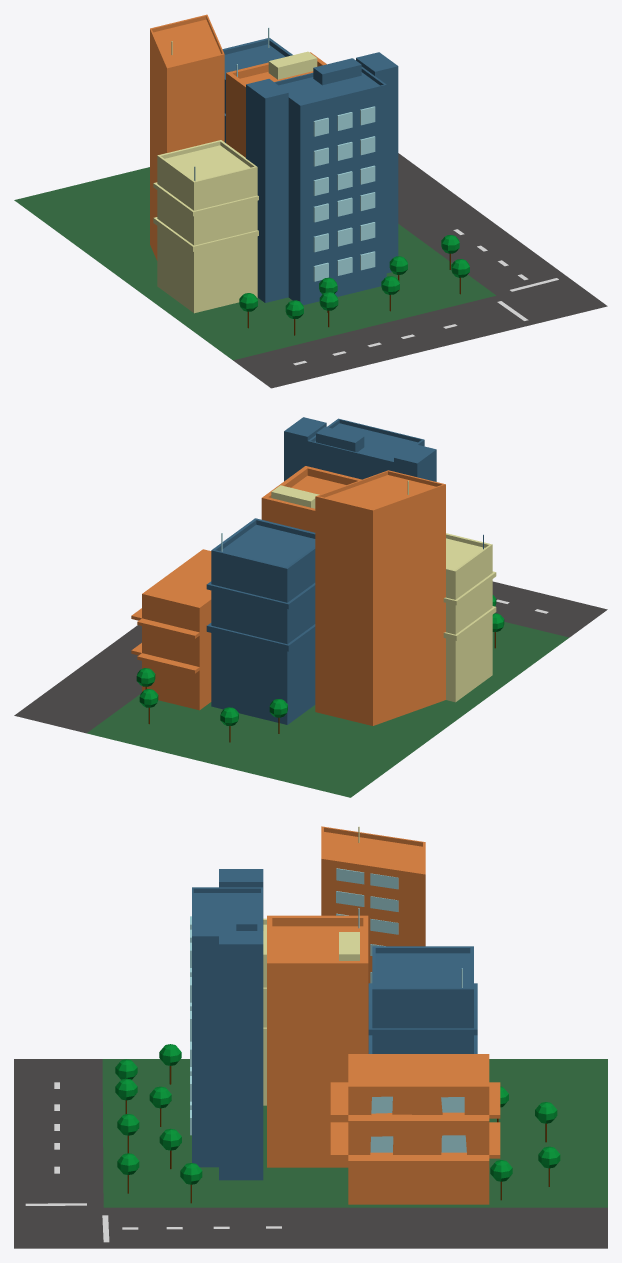
The model's file is ciudad.fbx.
3 views of the same model, one above another, from view 1: azimuth 30°, elevation 25°; view 2: azimuth 150°, elevation 25°; view 3: azimuth 270°, elevation 25° (orthographic). The views are drawn at different scales.
Parts seen in each view (by area): view 1: pPlane28, pCube4, pCube1, pCube3, pCube6, pCube7, pCube8, pCube11, pCube9, pCube5; view 2: pPlane28, pCube3, pCube11, pCube2, pCube1, pCube4, pCube8, pCube7, pCube6, pCube5, pCube9; view 3: pPlane28, pCube2, pCube8, pCube11, pCube7, pCube3, pCube4, pCube6, pCube1, pCube5, pCube9.
Boxes of the visible parts, bbox=[...] form: pPlane28: bbox=[14, 153, 607, 388]; pCube4: bbox=[274, 67, 386, 305]; pCube1: bbox=[153, 140, 258, 313]; pCube3: bbox=[150, 14, 224, 260]; pCube6: bbox=[246, 79, 288, 302]; pCube7: bbox=[356, 52, 398, 273]; pCube8: bbox=[226, 52, 326, 157]; pCube11: bbox=[222, 38, 292, 142]; pCube9: bbox=[268, 51, 317, 79]; pCube5: bbox=[313, 58, 361, 85]; pPlane28: bbox=[14, 581, 607, 797]; pCube3: bbox=[315, 470, 445, 725]; pCube11: bbox=[206, 518, 315, 724]; pCube2: bbox=[131, 549, 211, 710]; pCube1: bbox=[443, 533, 496, 702]; pCube4: bbox=[307, 418, 424, 479]; pCube8: bbox=[261, 466, 361, 532]; pCube7: bbox=[284, 417, 326, 481]; pCube6: bbox=[394, 443, 436, 481]; pCube5: bbox=[316, 427, 364, 452]; pCube9: bbox=[271, 485, 319, 508]; pPlane28: bbox=[14, 1059, 607, 1248]; pCube2: bbox=[330, 1054, 500, 1204]; pCube8: bbox=[267, 915, 368, 1167]; pCube11: bbox=[368, 946, 477, 1053]; pCube7: bbox=[219, 931, 263, 1180]; pCube3: bbox=[321, 826, 425, 1053]; pCube4: bbox=[192, 887, 262, 1167]; pCube6: bbox=[219, 869, 263, 930]; pCube1: bbox=[263, 918, 266, 1105]; pCube5: bbox=[236, 902, 257, 930]; pCube9: bbox=[339, 932, 359, 960].
Bounding box in the file's own units: 8.54 × 5.52 × 11.3.
